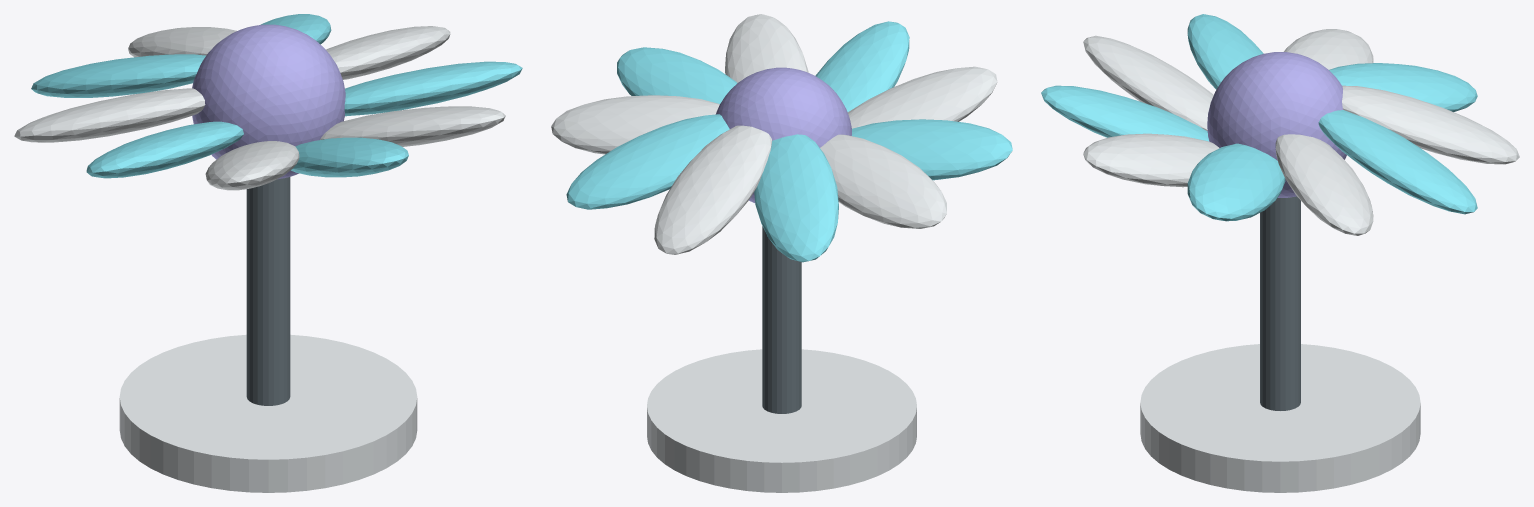
File: mechanical-flower.glb
The picture shows the model from 3 angles, left to right: view 1: azimuth 30°, elevation 25°; view 2: azimuth 150°, elevation 25°; view 3: azimuth 270°, elevation 25°; orthographic projection. The views are drawn at different scales.
Parts seen in each view (by area): view 1: mechanical-flower-2, mechanical-flower-1, mechanical-flower-0, mechanical-flower-10, mechanical-flower-5, mechanical-flower-9, mechanical-flower-11, mechanical-flower-4, mechanical-flower-6, mechanical-flower-3, mechanical-flower-12, mechanical-flower-8 (+1 smaller); view 2: mechanical-flower-2, mechanical-flower-8, mechanical-flower-9, mechanical-flower-7, mechanical-flower-10, mechanical-flower-1, mechanical-flower-0, mechanical-flower-11, mechanical-flower-6, mechanical-flower-12, mechanical-flower-3, mechanical-flower-5 (+1 smaller); view 3: mechanical-flower-2, mechanical-flower-1, mechanical-flower-0, mechanical-flower-7, mechanical-flower-8, mechanical-flower-6, mechanical-flower-5, mechanical-flower-12, mechanical-flower-4, mechanical-flower-3, mechanical-flower-9, mechanical-flower-11 (+1 smaller).
Boxes of the visible parts, x1,y1,x2,y2 form: mechanical-flower-2: [119, 334, 417, 492]; mechanical-flower-1: [192, 24, 345, 179]; mechanical-flower-0: [246, 177, 290, 405]; mechanical-flower-10: [14, 88, 205, 142]; mechanical-flower-5: [344, 61, 522, 116]; mechanical-flower-9: [31, 54, 205, 97]; mechanical-flower-11: [86, 121, 243, 178]; mechanical-flower-4: [320, 106, 505, 146]; mechanical-flower-6: [326, 26, 450, 79]; mechanical-flower-3: [291, 137, 408, 177]; mechanical-flower-12: [205, 141, 299, 190]; mechanical-flower-8: [128, 27, 236, 57]; mechanical-flower-2: [647, 349, 916, 492]; mechanical-flower-8: [654, 125, 772, 254]; mechanical-flower-9: [754, 134, 838, 262]; mechanical-flower-7: [566, 114, 729, 209]; mechanical-flower-10: [820, 134, 946, 228]; mechanical-flower-1: [715, 67, 851, 202]; mechanical-flower-0: [762, 226, 801, 413]; mechanical-flower-11: [852, 119, 1012, 180]; mechanical-flower-6: [551, 95, 719, 154]; mechanical-flower-12: [847, 66, 997, 128]; mechanical-flower-3: [815, 21, 909, 111]; mechanical-flower-5: [617, 47, 737, 103]; mechanical-flower-2: [1140, 344, 1420, 492]; mechanical-flower-1: [1207, 52, 1346, 197]; mechanical-flower-0: [1260, 196, 1300, 410]; mechanical-flower-7: [1318, 110, 1477, 214]; mechanical-flower-8: [1342, 85, 1519, 164]; mechanical-flower-6: [1275, 134, 1373, 235]; mechanical-flower-5: [1187, 143, 1285, 221]; mechanical-flower-12: [1083, 35, 1213, 131]; mechanical-flower-4: [1083, 133, 1219, 187]; mechanical-flower-3: [1041, 85, 1209, 141]; mechanical-flower-9: [1329, 63, 1477, 111]; mechanical-flower-11: [1187, 14, 1263, 89].
Bounding box in the file's own units: 2.17 × 1.92 × 2.22.
